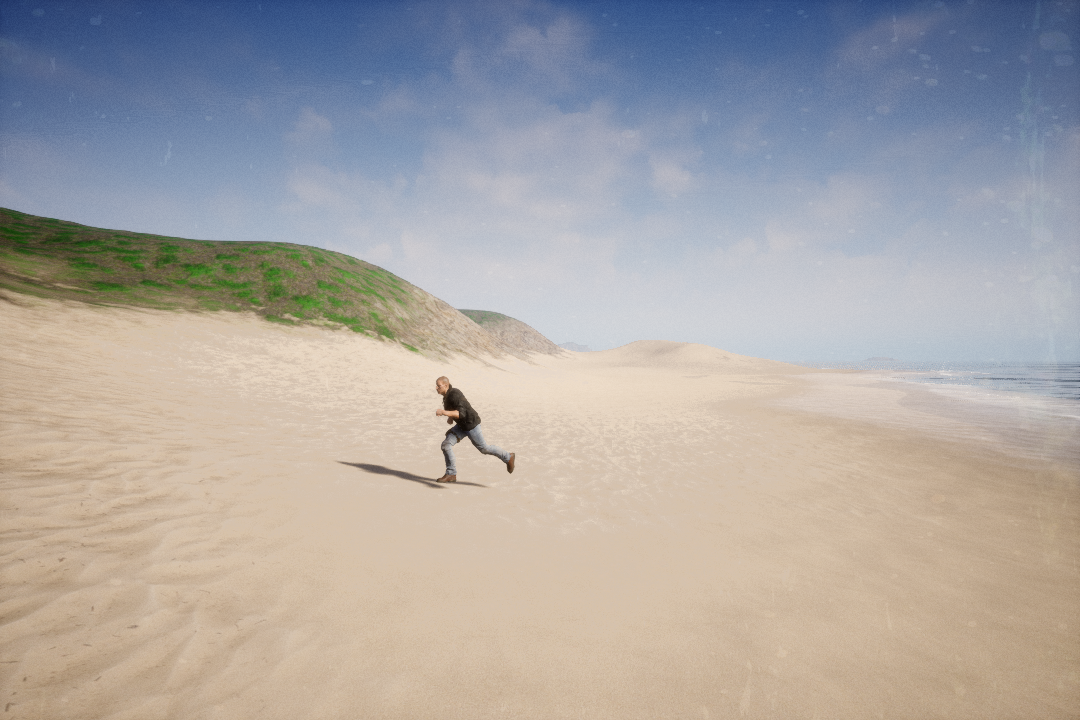person: (418, 371, 523, 487)
